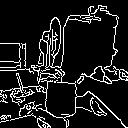cube: (41, 73, 81, 120)
